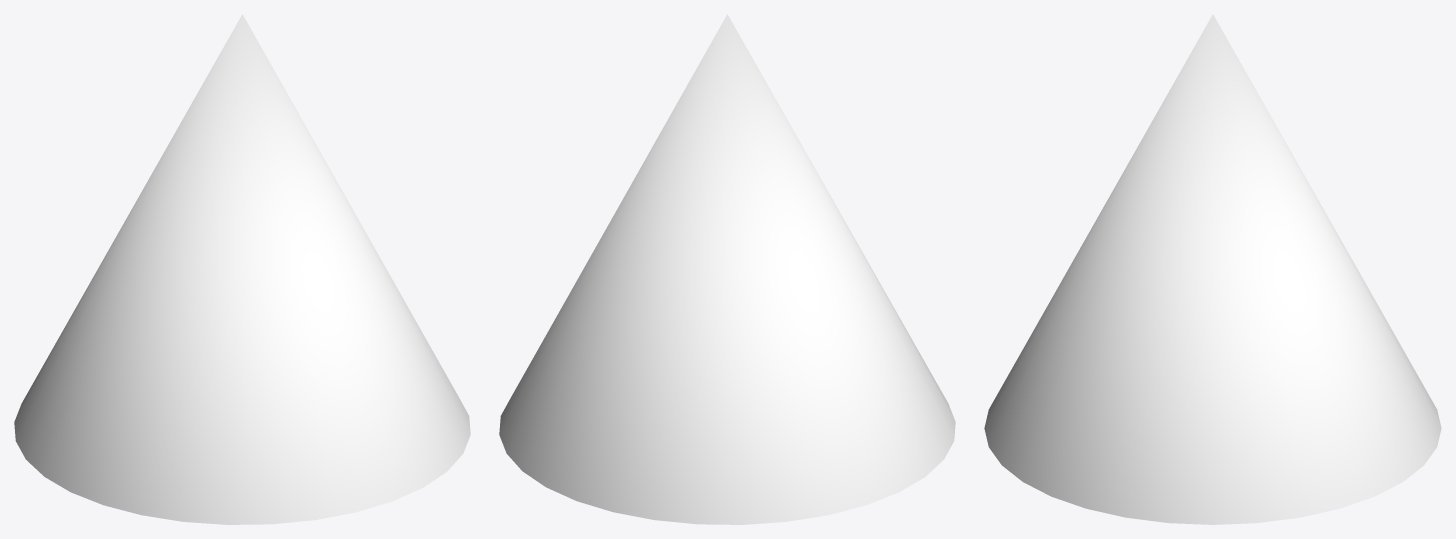
File: SpotLightModel.fbx
The picture shows the model from 3 angles, left to right: view 1: azimuth 30°, elevation 25°; view 2: azimuth 150°, elevation 25°; view 3: azimuth 270°, elevation 25°; orthographic projection.
Parts seen in each view (by area): view 1: Cone; view 2: Cone; view 3: Cone.
Boxes of the visible parts, left/top/right/bottom form: Cone: left=14, top=14, right=470, bottom=524; Cone: left=499, top=14, right=955, bottom=524; Cone: left=984, top=14, right=1441, bottom=524.
Size of the model in its own units: 2 by 2 by 2.
